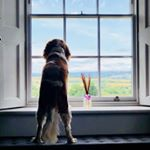puppy: (30, 34, 80, 149)
